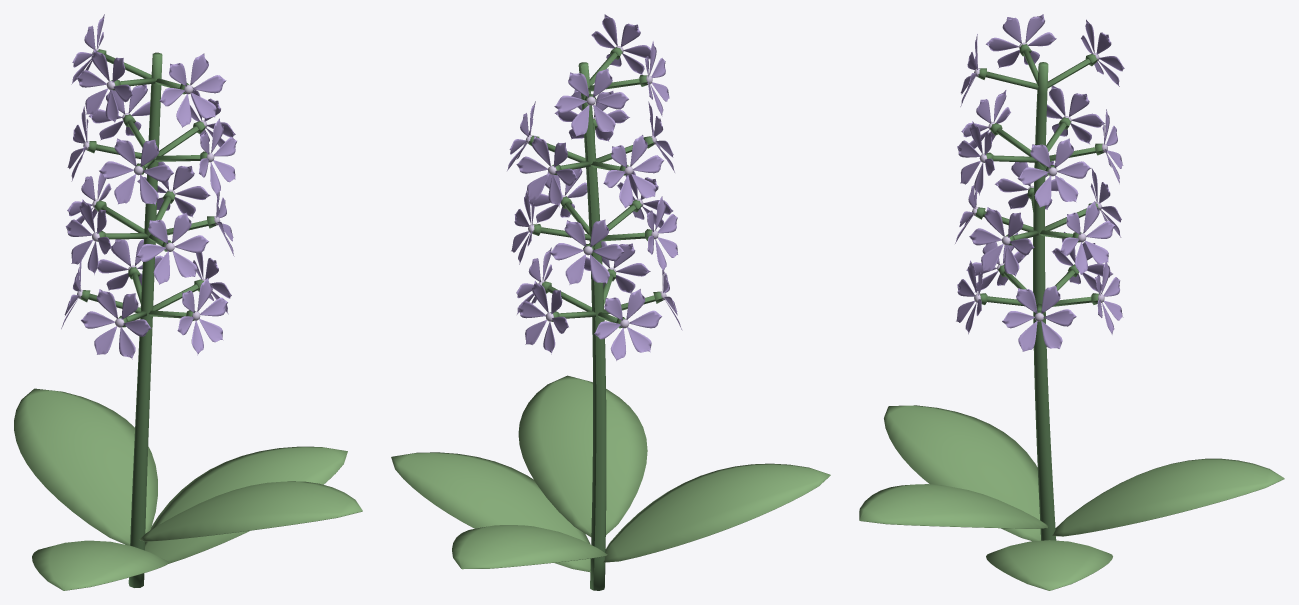
The model's file is hyacinth-common-v2.glb.
3 views of the same model, side by side, from view 1: azimuth 30°, elevation 25°; view 2: azimuth 150°, elevation 25°; view 3: azimuth 270°, elevation 25° (orthographic). The views are drawn at different scales.
Visible parts, largest first — view 1: hyacinth-common-v2-leaf, hyacinth-common-v2-petal, hyacinth-common-v2-stem, hyacinth-common-v2-center; view 2: hyacinth-common-v2-leaf, hyacinth-common-v2-petal, hyacinth-common-v2-stem, hyacinth-common-v2-center; view 3: hyacinth-common-v2-leaf, hyacinth-common-v2-petal, hyacinth-common-v2-stem, hyacinth-common-v2-center.
Boxes of the visible parts, x1=… form: hyacinth-common-v2-leaf: x1=14, y1=388, x2=362, y2=590; hyacinth-common-v2-petal: x1=61, y1=14, x2=236, y2=359; hyacinth-common-v2-stem: x1=80, y1=49, x2=216, y2=587; hyacinth-common-v2-center: x1=77, y1=48, x2=220, y2=327; hyacinth-common-v2-leaf: x1=391, y1=375, x2=830, y2=572; hyacinth-common-v2-petal: x1=507, y1=14, x2=682, y2=360; hyacinth-common-v2-stem: x1=529, y1=47, x2=662, y2=590; hyacinth-common-v2-center: x1=526, y1=46, x2=666, y2=328; hyacinth-common-v2-leaf: x1=859, y1=405, x2=1284, y2=590; hyacinth-common-v2-petal: x1=955, y1=14, x2=1124, y2=351; hyacinth-common-v2-stem: x1=975, y1=44, x2=1103, y2=540; hyacinth-common-v2-center: x1=972, y1=42, x2=1107, y2=321.
Size of the model in its own units: 0.9127 by 1.31 by 0.9367.
